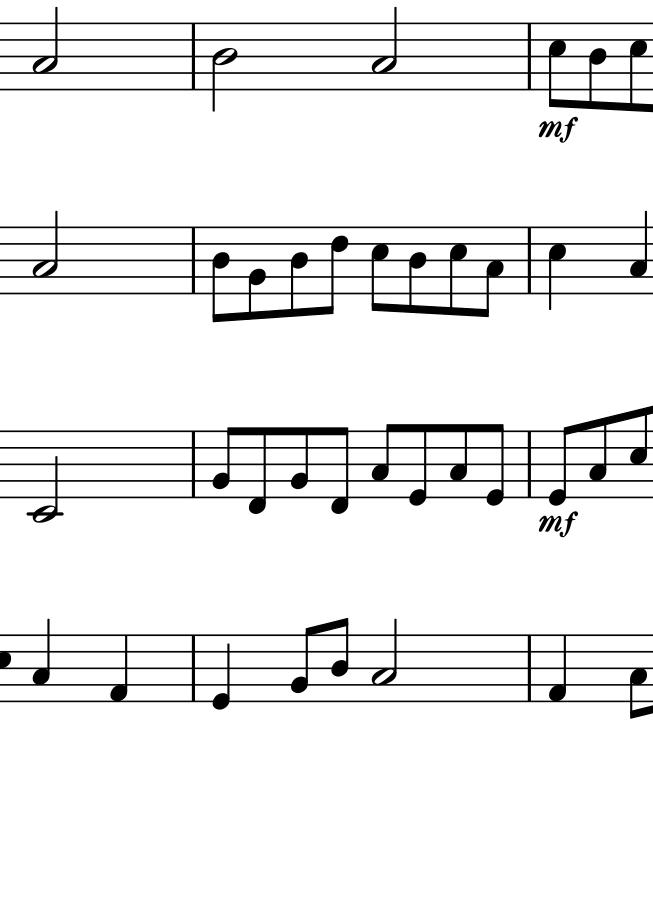2_-2: (29, 425, 64, 526)
2_3: (369, 615, 399, 705), (370, 5, 400, 94), (31, 208, 60, 298), (32, 7, 61, 92)
2_4: (211, 21, 240, 115)
4_0: (210, 629, 234, 709)
4_1: (109, 630, 133, 706), (549, 633, 573, 700)
4_3: (32, 617, 54, 705), (629, 210, 650, 297)
4_5: (547, 224, 569, 313)
8_-1: (329, 425, 352, 517), (245, 427, 269, 515)
8_0: (545, 422, 575, 505), (483, 421, 509, 507), (407, 422, 430, 511)
8_2: (288, 623, 317, 706), (210, 424, 239, 500), (247, 225, 269, 324), (287, 425, 313, 501)
8_3: (479, 224, 505, 320), (370, 422, 398, 501), (626, 631, 649, 720), (586, 414, 609, 501), (445, 421, 468, 499)
8_4: (205, 225, 233, 327), (288, 225, 311, 321), (406, 223, 427, 316), (586, 20, 607, 112), (330, 617, 351, 704)
8_5: (445, 224, 468, 317), (630, 404, 652, 501), (626, 20, 648, 115), (369, 223, 392, 312), (545, 21, 566, 109)
8_6: (322, 222, 350, 315)
Single_barline: (519, 634, 542, 702), (518, 22, 540, 90), (520, 430, 541, 498), (184, 634, 205, 701), (184, 22, 203, 90), (521, 226, 540, 293), (184, 431, 203, 498), (184, 226, 202, 295)
mf: (534, 510, 582, 540), (537, 115, 576, 147)
